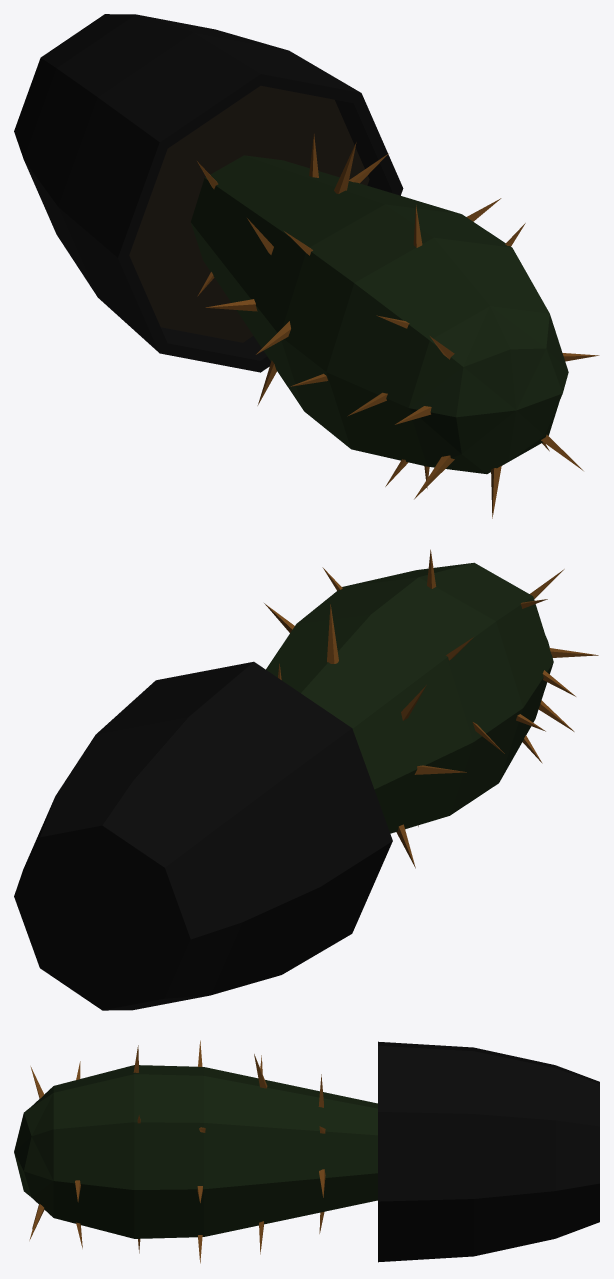
3 views of the same model, one above another, from view 1: azimuth 30°, elevation 25°; view 2: azimuth 150°, elevation 25°; view 3: azimuth 270°, elevation 25° (orthographic). The views are drawn at different scales.
Visible parts, largest first — view 1: part_2, part_0, part_1, part_3; view 2: part_0, part_2, part_3; view 3: part_2, part_0, part_3.
Boxes of the visible parts, left/top/right/bottom form: part_2: left=191, top=155, right=568, bottom=474; part_0: left=14, top=14, right=403, bottom=372; part_1: left=129, top=86, right=369, bottom=342; part_3: left=197, top=134, right=599, bottom=518; part_0: left=14, top=661, right=392, bottom=1010; part_2: left=266, top=562, right=553, bottom=833; part_3: left=264, top=549, right=598, bottom=868; part_2: left=14, top=1065, right=377, bottom=1238; part_0: left=378, top=1041, right=599, bottom=1262; part_3: left=29, top=1040, right=325, bottom=1263.
Bounding box in the file's own units: 0.446 × 0.4404 × 1.1.
